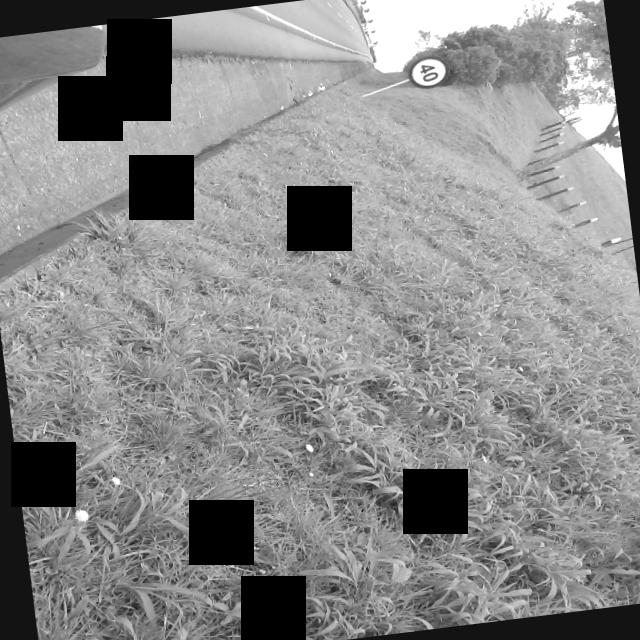DITCH: (0, 0, 515, 640), (0, 11, 399, 295)
